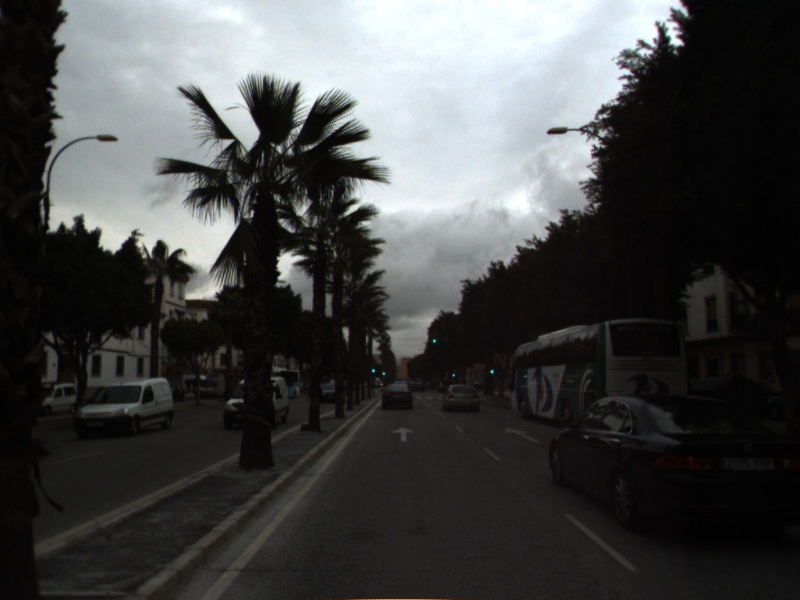STRAIGHT: (502, 424, 543, 445), (390, 425, 417, 444)
